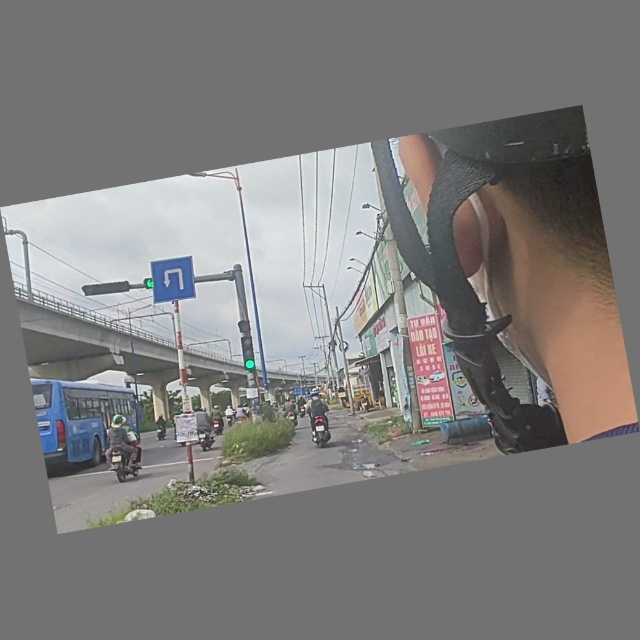I.409: (147, 249, 208, 314)
